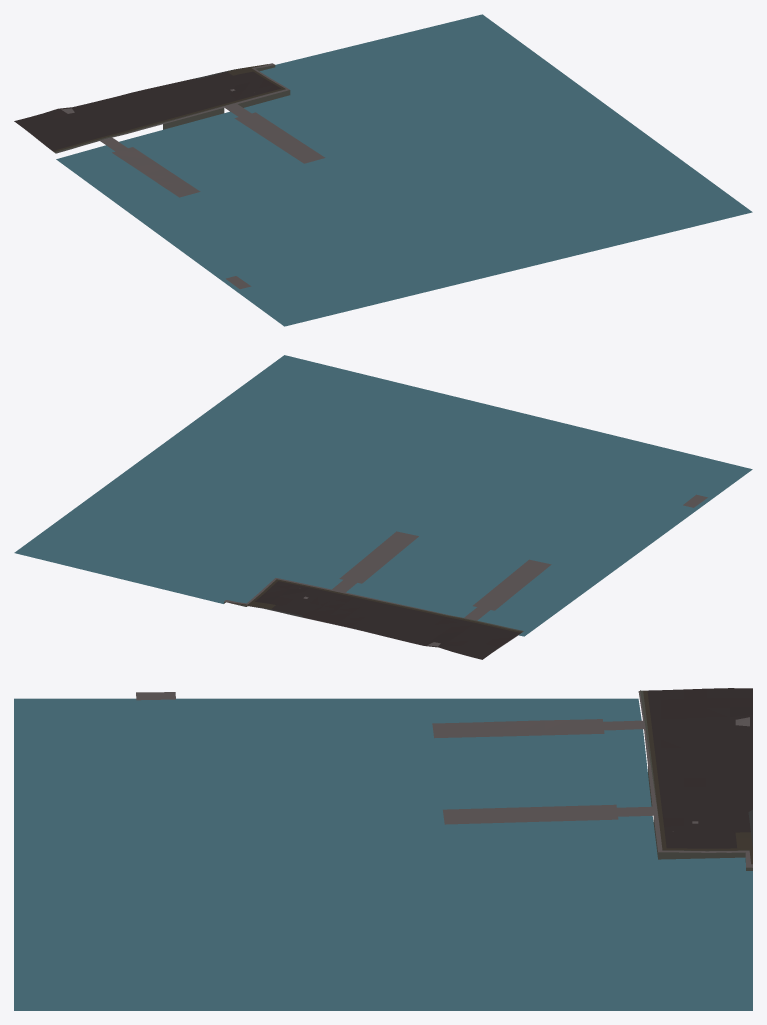
3 renders of one model, top to bottom at view 1: azimuth 30°, elevation 25°; view 2: azimuth 150°, elevation 25°; view 3: azimuth 270°, elevation 25°, orthographic. The views are drawn at different scales.
Parts seen in each view (by area): view 1: c_p01_p02; view 2: c_p01_p02; view 3: c_p01_p02.
Boxes of the visible parts, box(x1,y1,x2,y2) form: c_p01_p02: box(14, 14, 752, 326); c_p01_p02: box(14, 355, 752, 659); c_p01_p02: box(14, 688, 752, 1010).
Size of the model in its own units: 128 by 2.4 by 128.
